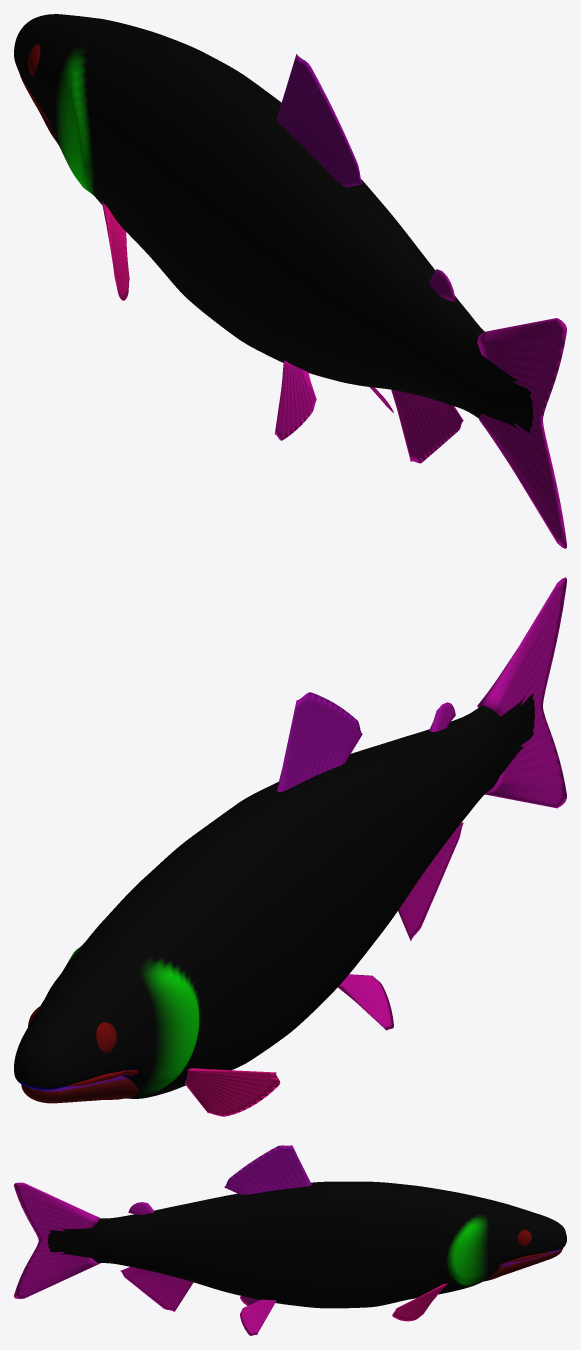
Rendered from sockeye_spawner_female.glb.
The picture shows the model from 3 angles, top to bottom: view 1: azimuth 30°, elevation 25°; view 2: azimuth 150°, elevation 25°; view 3: azimuth 270°, elevation 25°; orthographic projection. The views are drawn at different scales.
Visible parts, largest first — view 1: sockeye_spawner_female; view 2: sockeye_spawner_female; view 3: sockeye_spawner_female.
Part boxes in pixels (<box>): sockeye_spawner_female: <box>14,14,566,548</box>; sockeye_spawner_female: <box>14,577,566,1116</box>; sockeye_spawner_female: <box>14,1145,566,1335</box>.
Size of the model in its own units: 0.104 by 0.2103 by 0.5967.
